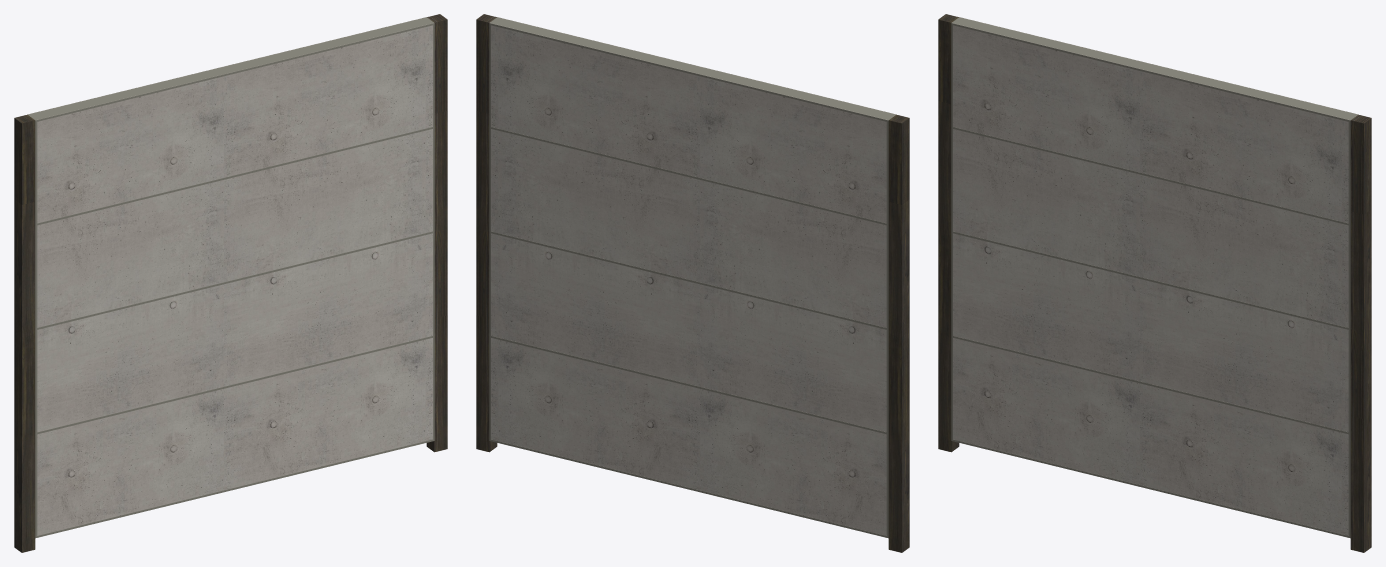
File: ABF1-H1800_RC.fbx
3 views of the same model, side by side, from view 1: azimuth 30°, elevation 25°; view 2: azimuth 150°, elevation 25°; view 3: azimuth 330°, elevation 25° (orthographic).
Visible parts, largest first — view 1: 1850-1920-60_rc; view 2: 1850-1920-60_rc; view 3: 1850-1920-60_rc.
Boxes of the visible parts, x1,y1,x2,y2 form: 1850-1920-60_rc: [14, 14, 447, 552]; 1850-1920-60_rc: [476, 14, 909, 552]; 1850-1920-60_rc: [938, 14, 1371, 552].
Size of the model in its own units: 192 by 185 by 6.4.
Materials: 5 (4 with a texture image).
